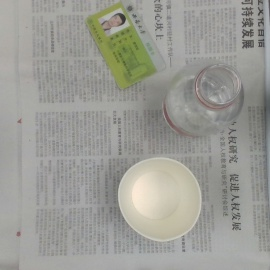card: (84, 1, 167, 89)
cup: (117, 155, 202, 244), (163, 61, 246, 139)
